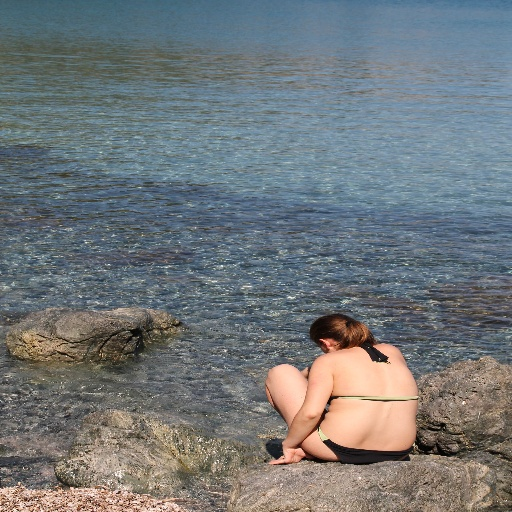hand: (265, 439, 315, 467)
